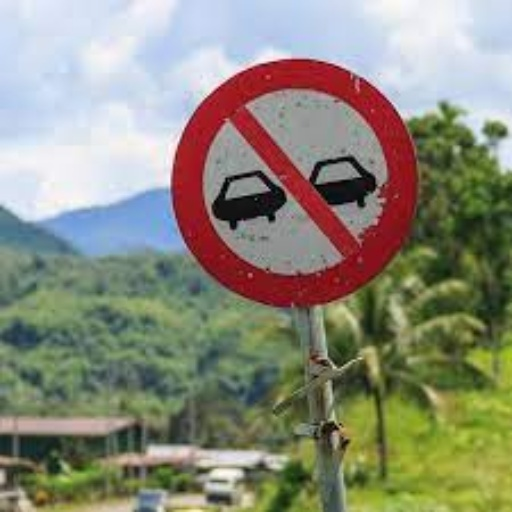No overtake: (161, 56, 433, 323)
